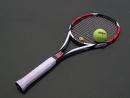tennis ball: (92, 27, 108, 43)
